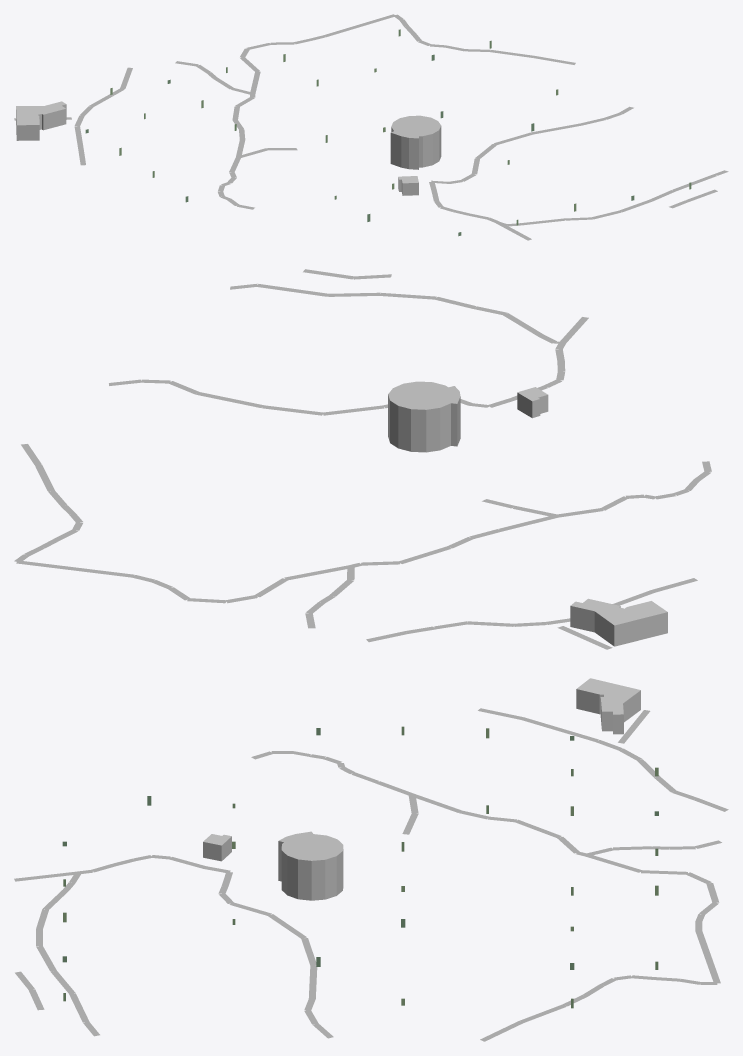
The picture shows the model from 3 angles, top to bottom: view 1: azimuth 30°, elevation 25°; view 2: azimuth 150°, elevation 25°; view 3: azimuth 270°, elevation 25°; orthographic projection. The views are drawn at different scales.
Bounding box in the file's own units: 539 × 41.69 × 507.
